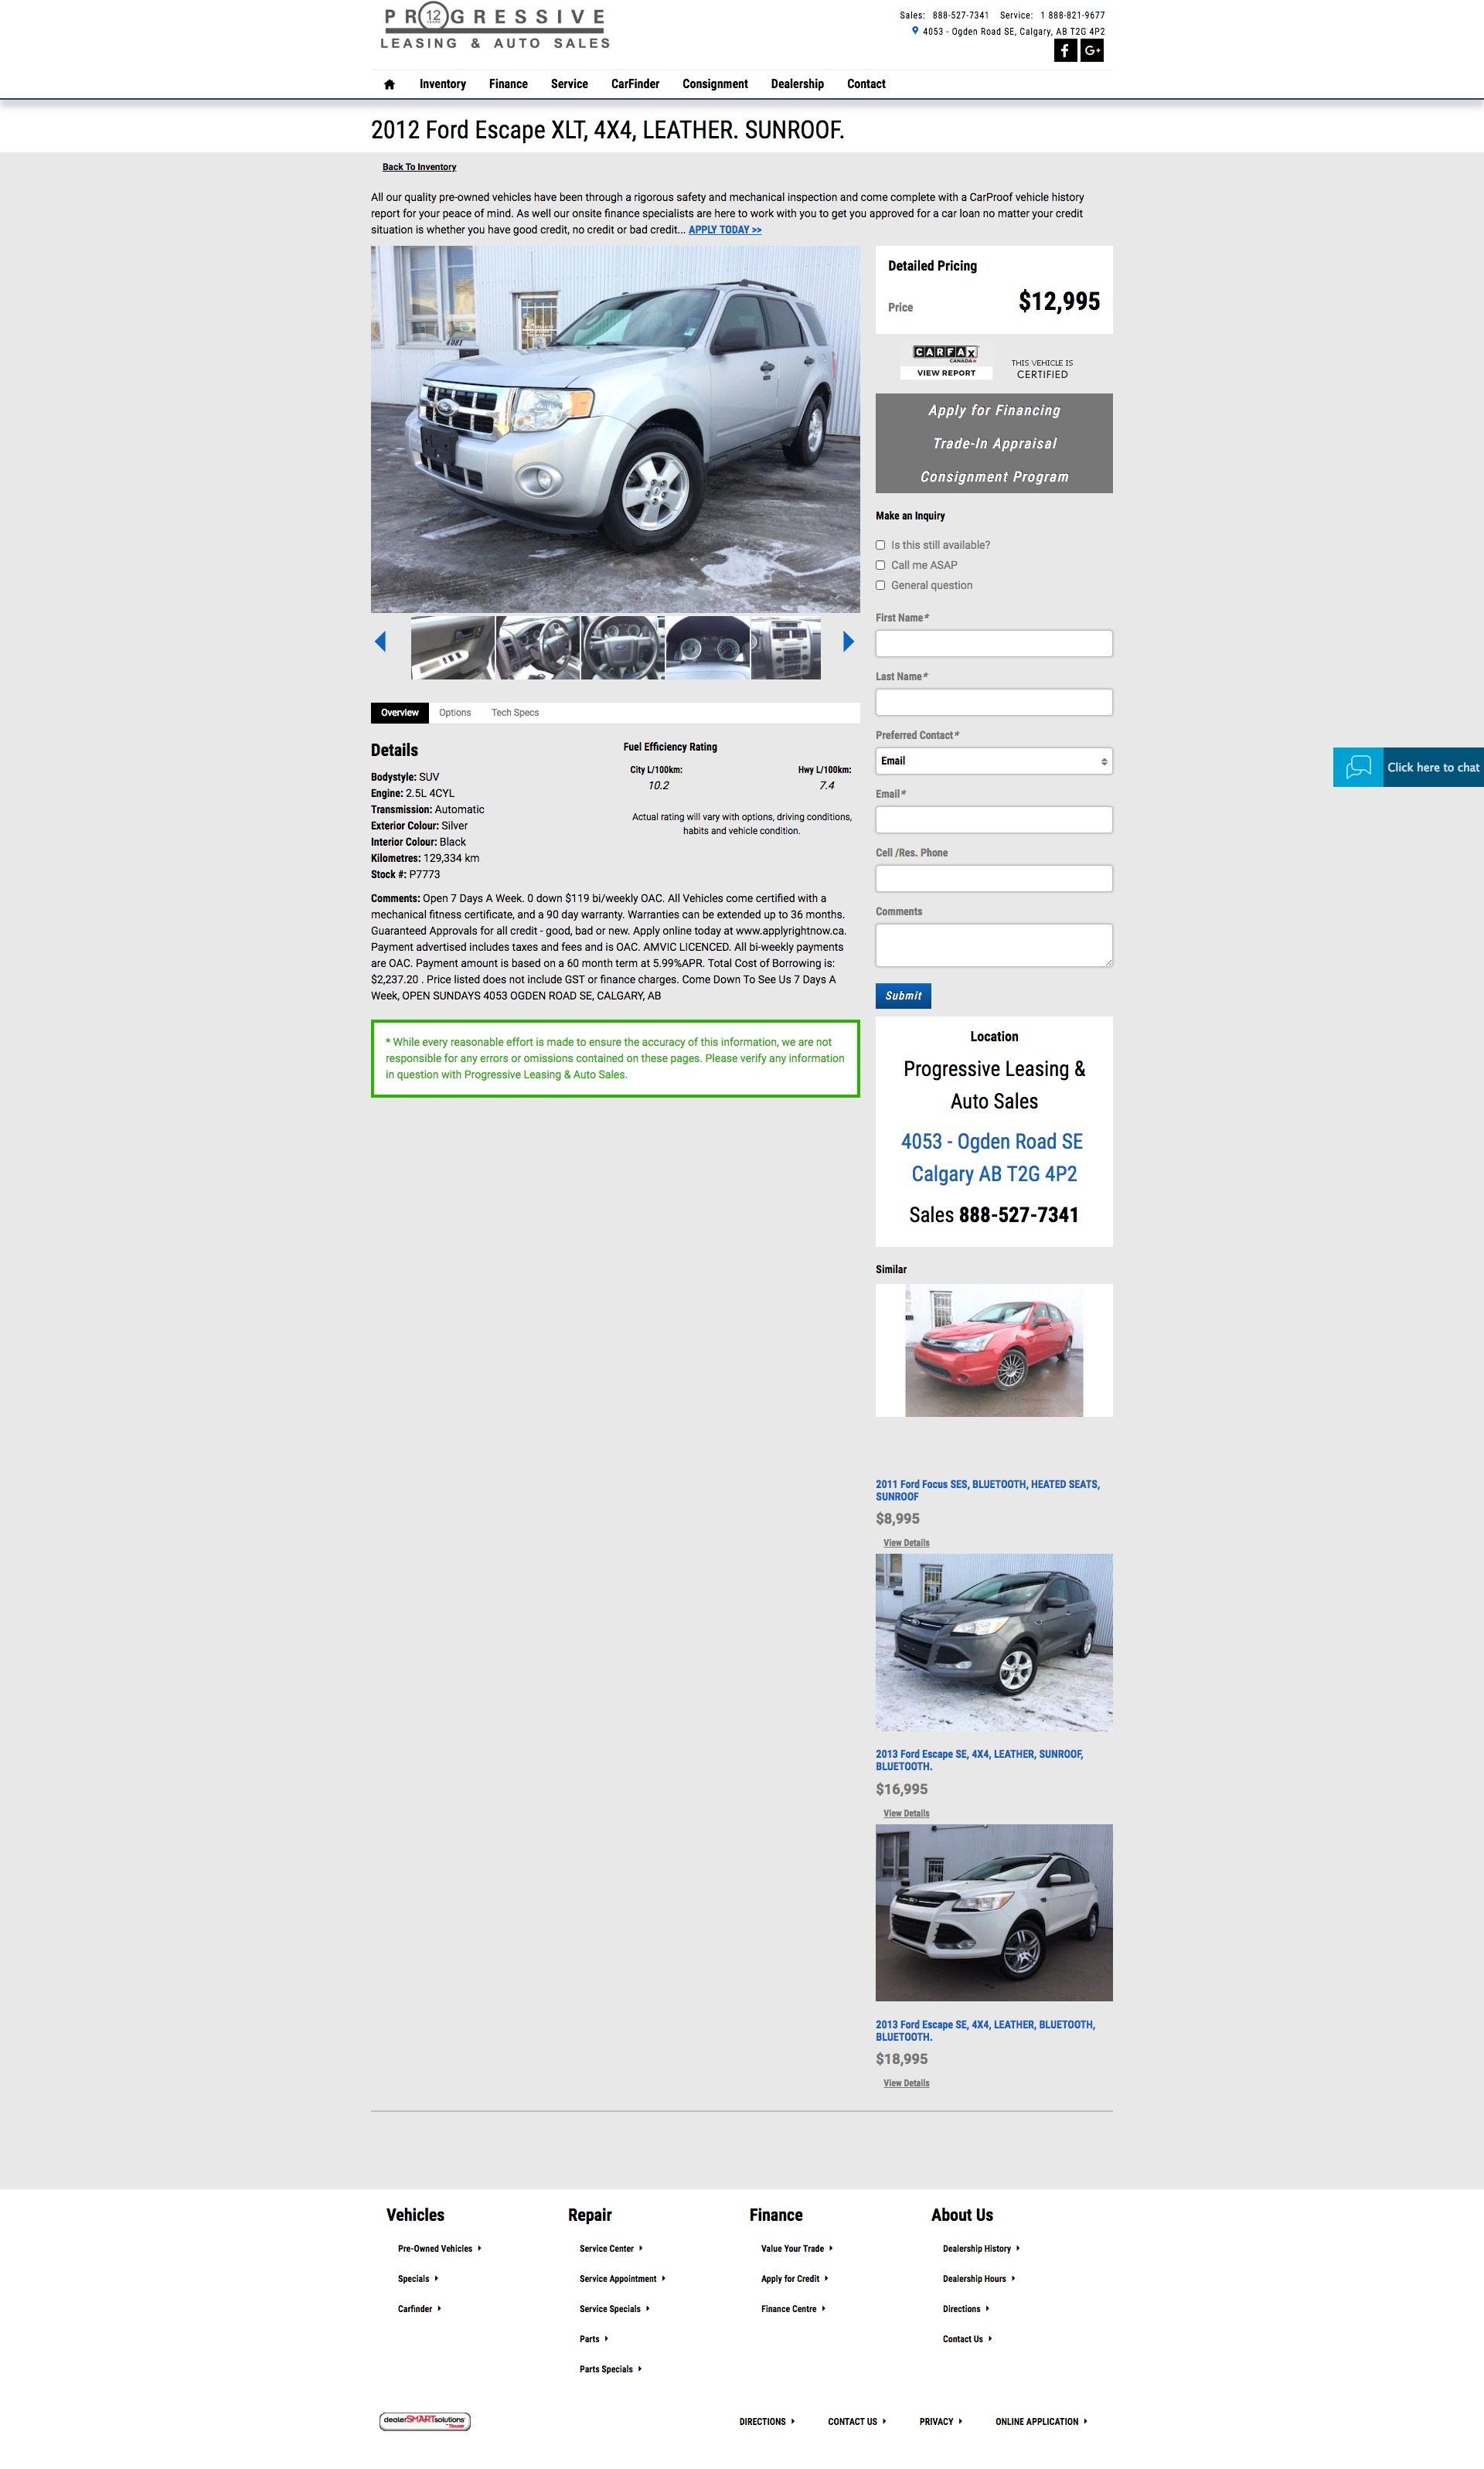car: (842, 631, 855, 653)
